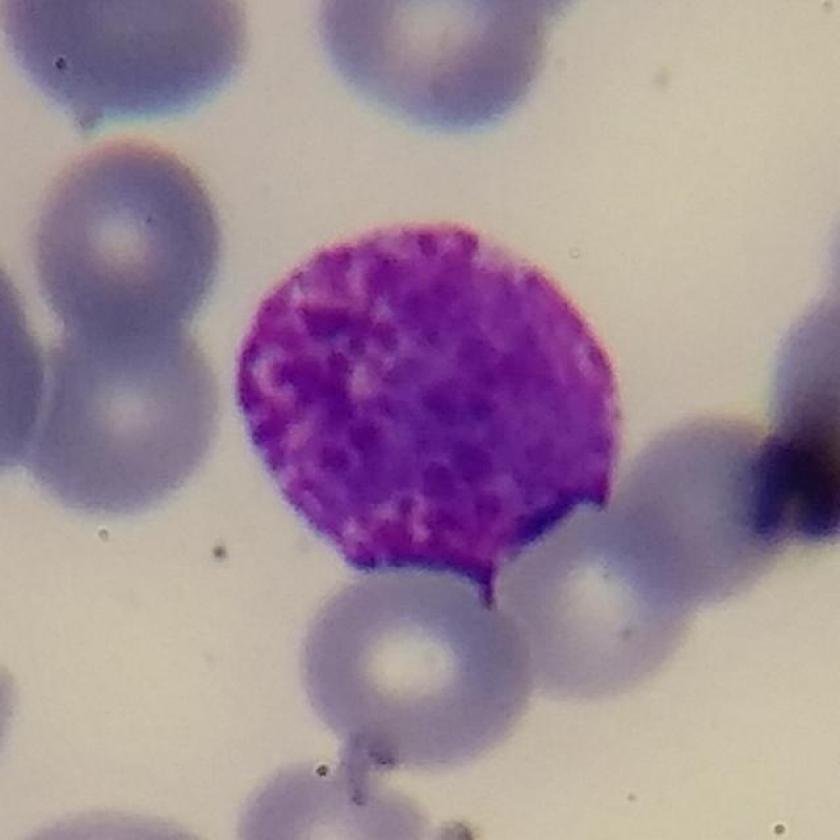basophil: (231, 212, 638, 597)
